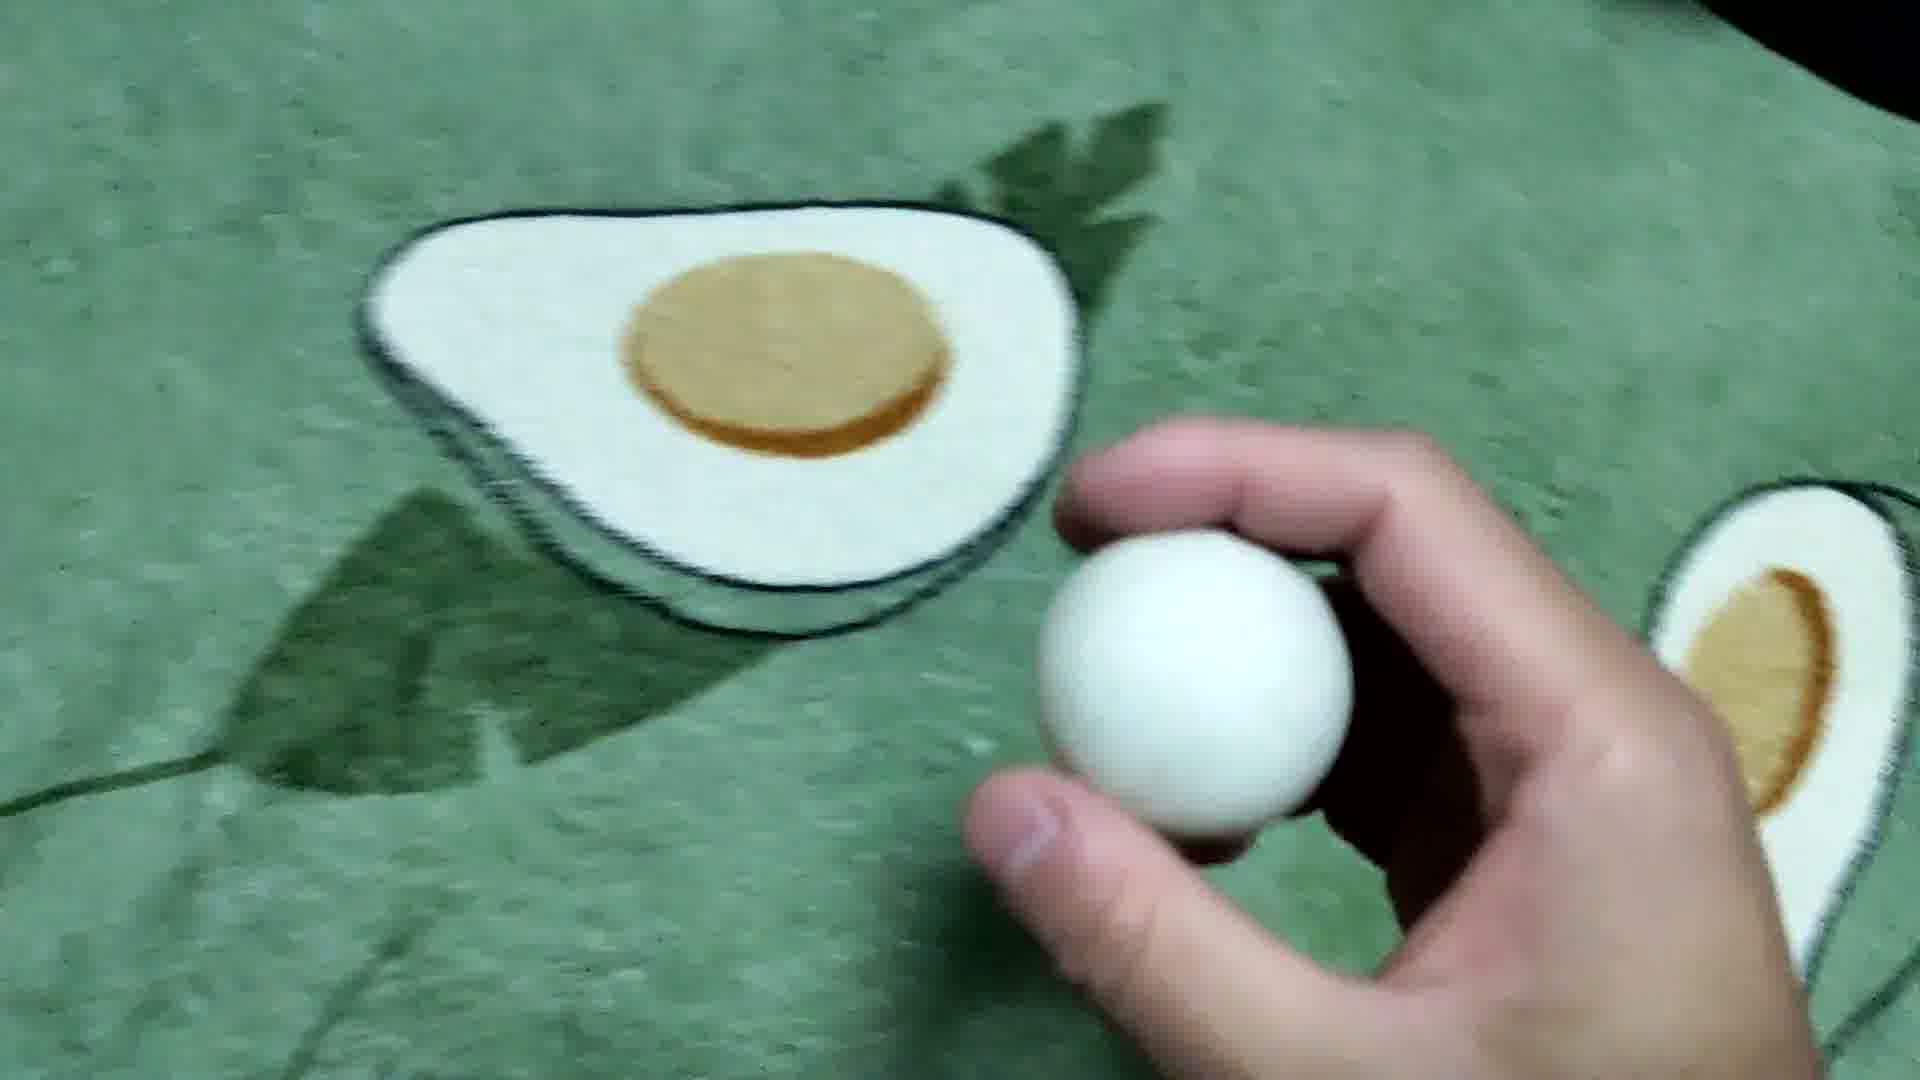Ball: (1038, 521, 1342, 837)
